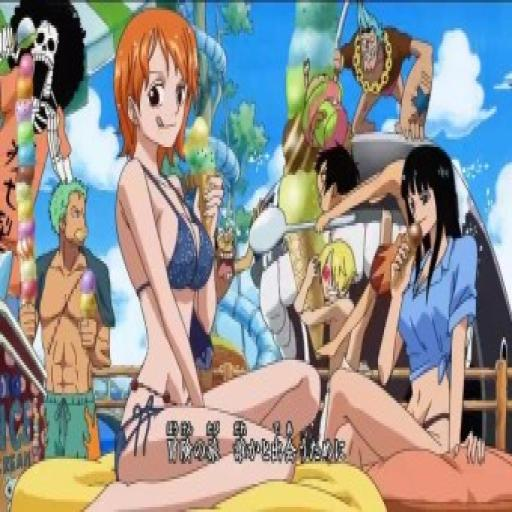Nami: (113, 2, 204, 166)
NicoRobin: (394, 132, 463, 293)
Usopp: (214, 208, 239, 295)
Zoro: (46, 172, 92, 268)
sanji: (313, 236, 360, 310)
